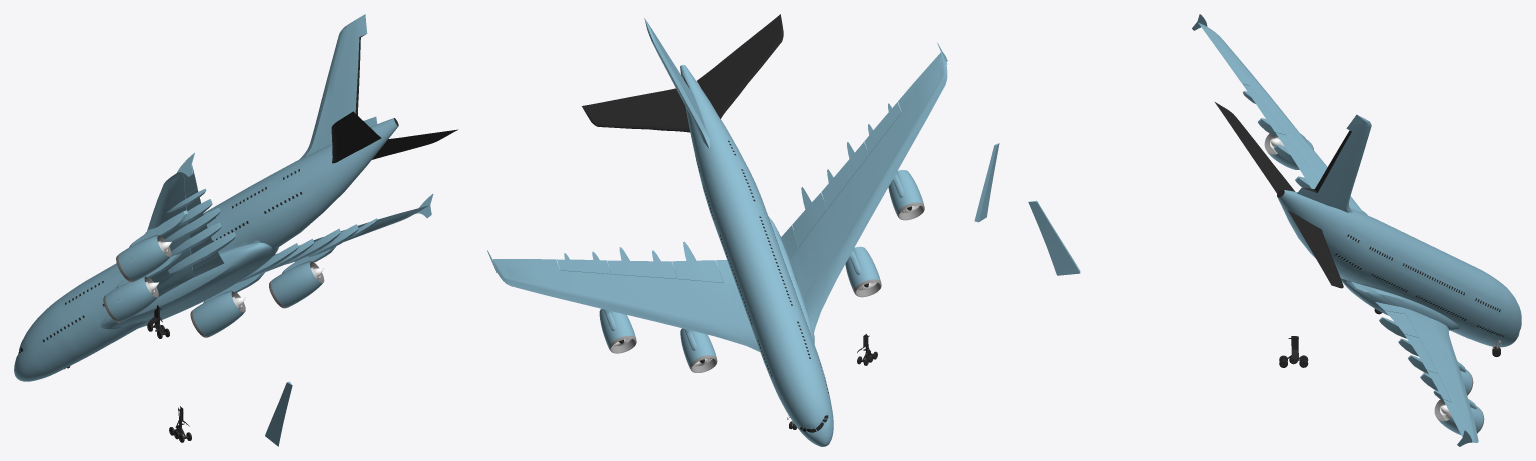
3 views of the same model, side by side, from view 1: azimuth 30°, elevation 25°; view 2: azimuth 150°, elevation 25°; view 3: azimuth 270°, elevation 25° (orthographic). The views are drawn at different scales.
Visible parts, largest first — view 1: chassis01, rudder01; view 2: chassis01, rudder01; view 3: chassis01, rudder01.
Boxes of the visible parts, box(x1,y1,x2,y2) form: chassis01: box(14, 14, 457, 381); rudder01: box(265, 381, 292, 446); chassis01: box(487, 14, 947, 446); rudder01: box(974, 143, 999, 222); chassis01: box(1192, 14, 1521, 446); rudder01: box(1028, 200, 1080, 275).
Bounding box in the file's own units: 5391 × 4583 × 5619.
